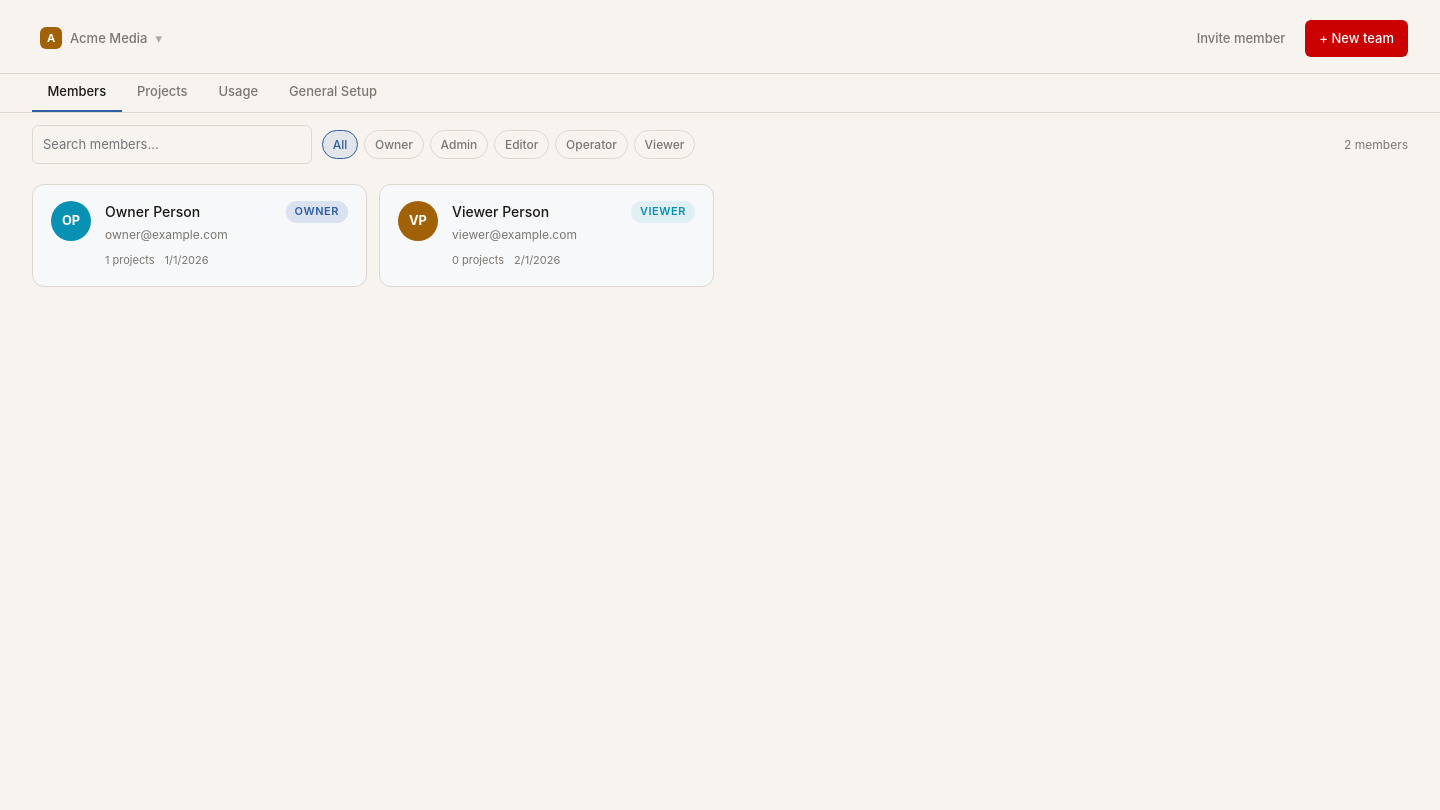
Test case: TeamPage — with a team › opens the Member Management dialog when a member card is clicked
The image size is (1440, 810).
expect the text "Owner Person" is shown: met, box [105, 201, 200, 223]
Click the text "Viewer Person" at [501, 212], box [452, 201, 549, 223]
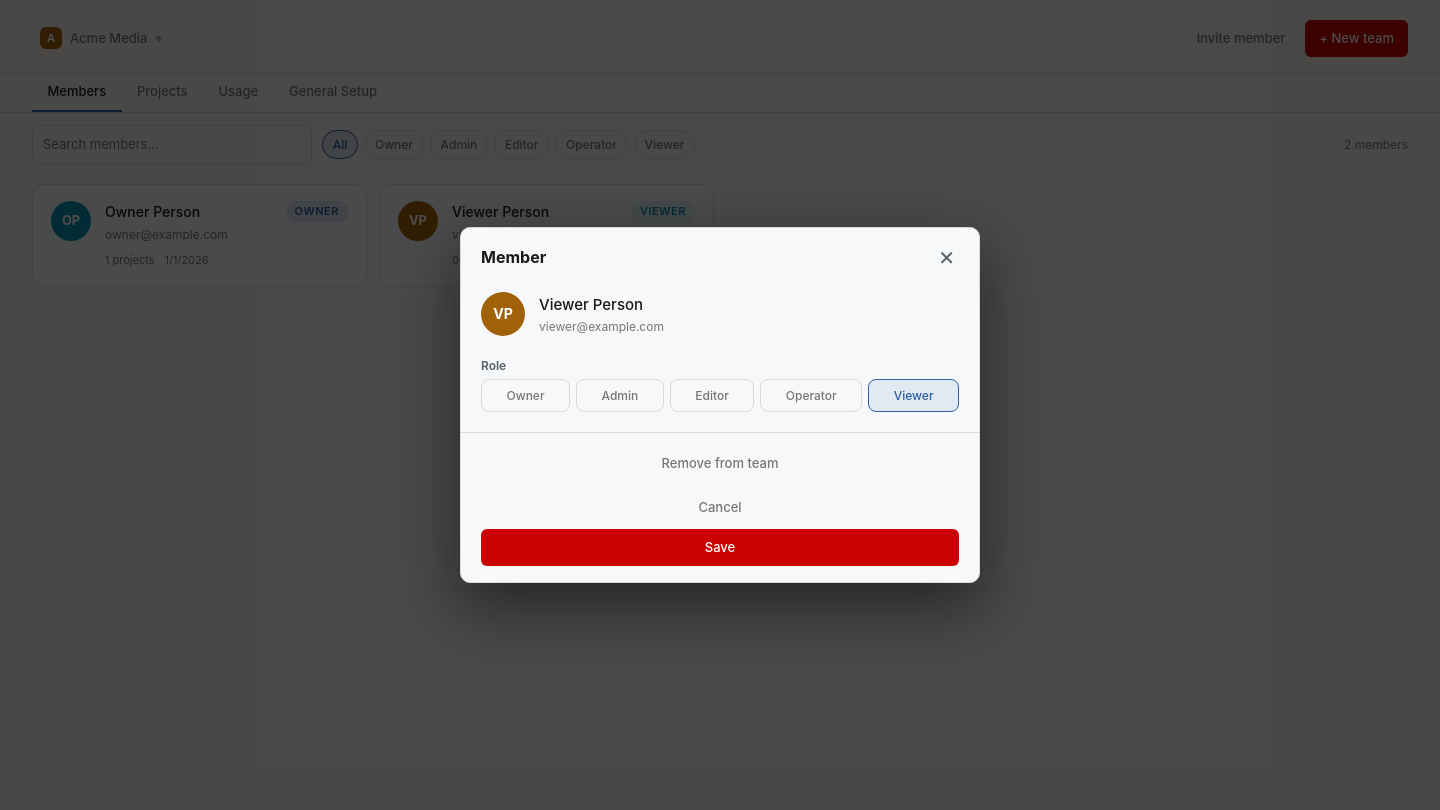
expect the button "Remove from team" is shown: met, box [481, 449, 959, 477]
